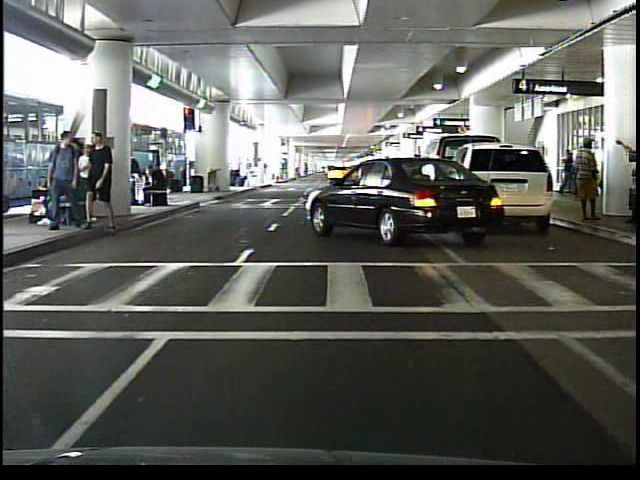person: (570, 138, 603, 230), (137, 162, 168, 211), (559, 142, 576, 200)
